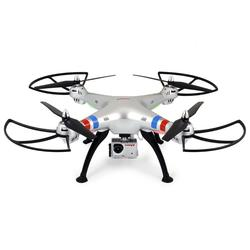drone: (4, 72, 247, 185)
